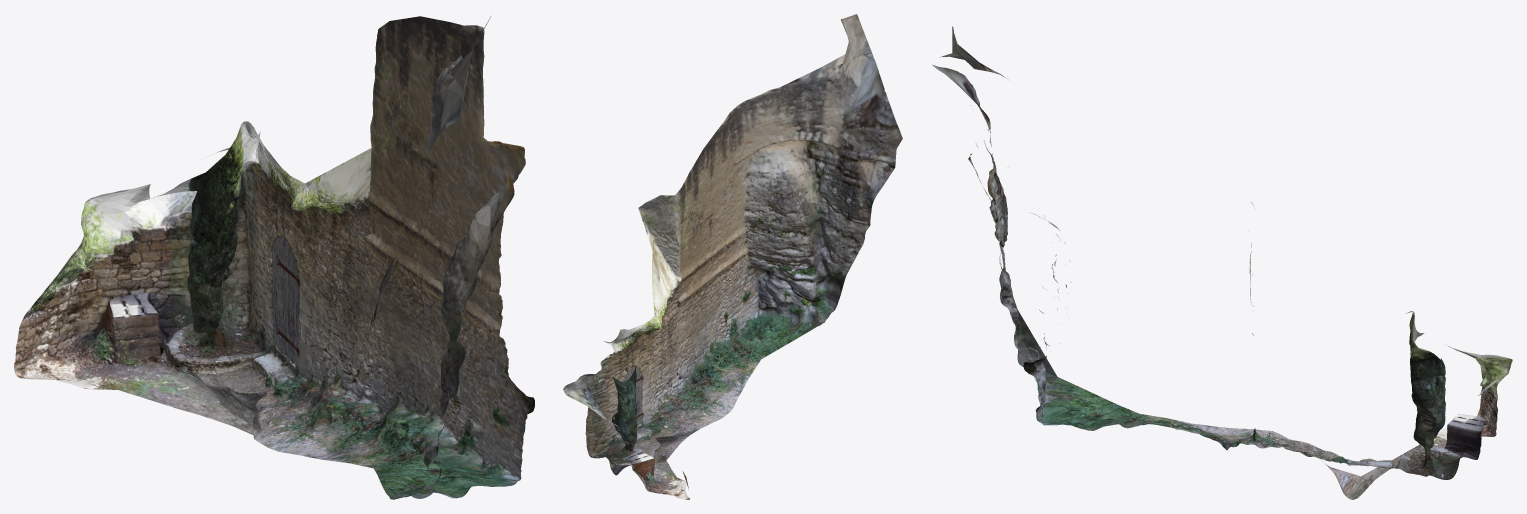
Rendered from S045_CastleCorner.glb.
The picture shows the model from 3 angles, left to right: view 1: azimuth 30°, elevation 25°; view 2: azimuth 150°, elevation 25°; view 3: azimuth 270°, elevation 25°; orthographic projection. The views are drawn at different scales.
Parts seen in each view (by area): view 1: Mesh; view 2: Mesh; view 3: Mesh.
Part boxes in pixels (x1,y1,x2,y2): Mesh: [14, 16, 534, 499]; Mesh: [563, 14, 902, 499]; Mesh: [932, 26, 1512, 499].
Bounding box in the file's own units: 1.56 × 3.35 × 3.88.
Materials: 1 (1 with a texture image).
